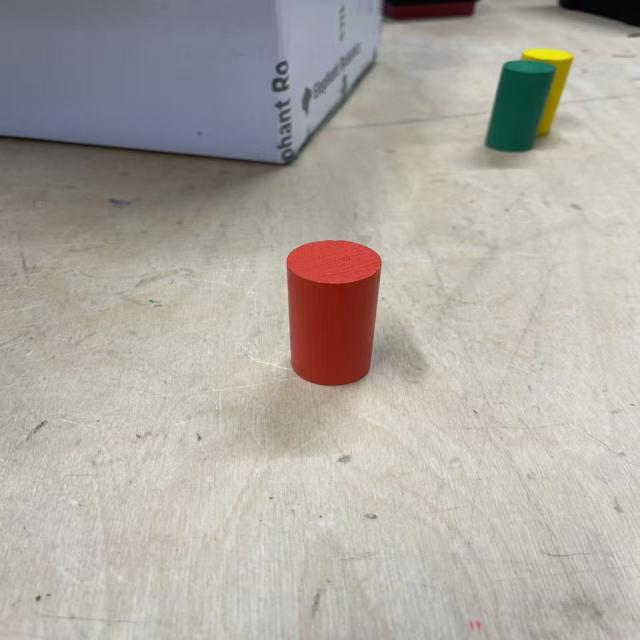red_cylinder: (286, 239, 382, 387)
